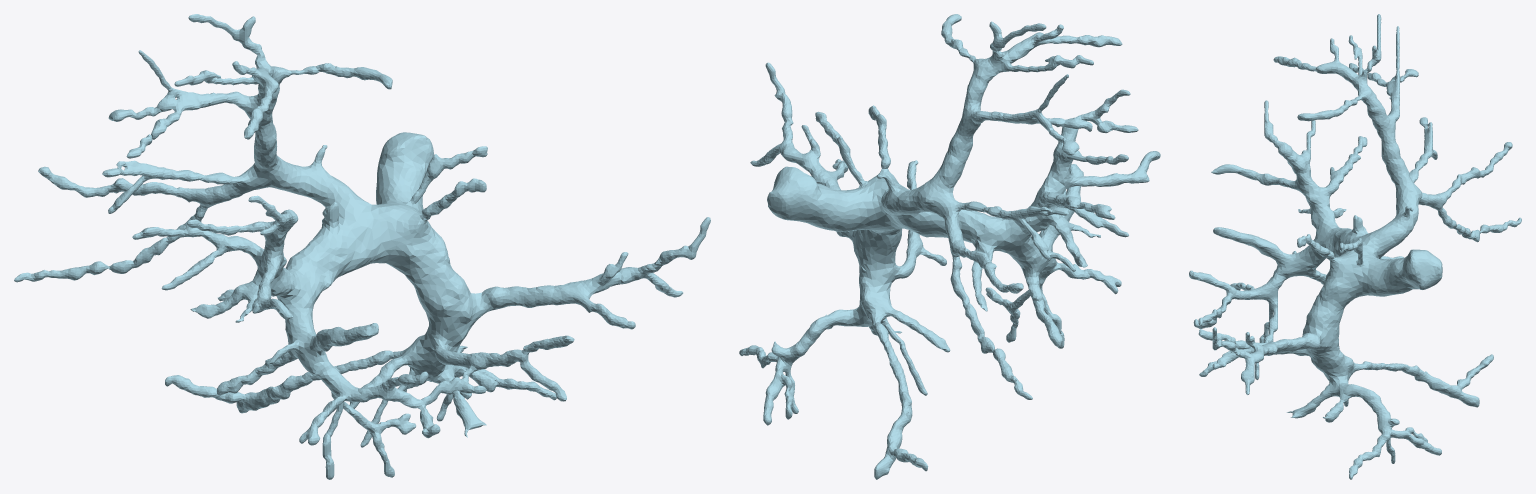
The model's file is portalvein1.obj.
3 renders of one model, left to right at view 1: azimuth 30°, elevation 25°; view 2: azimuth 150°, elevation 25°; view 3: azimuth 270°, elevation 25°, orthographic. The views are drawn at different scales.
Parts seen in each view (by area): view 1: grp1; view 2: grp1; view 3: grp1.
Part boxes in pixels (x1,y1,x2,y2): grp1: [14, 14, 710, 479]; grp1: [739, 14, 1160, 479]; grp1: [1189, 14, 1521, 479].
Bounding box in the file's own units: 145 × 134 × 113.
